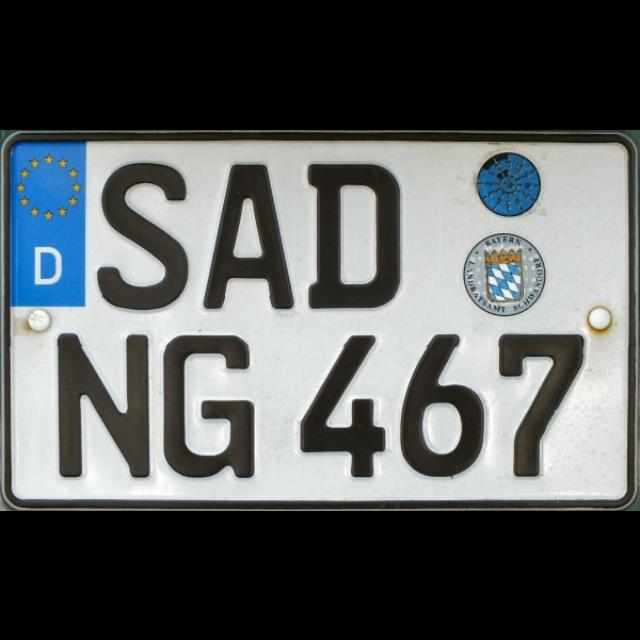d_license_plate: (4, 135, 630, 501)
